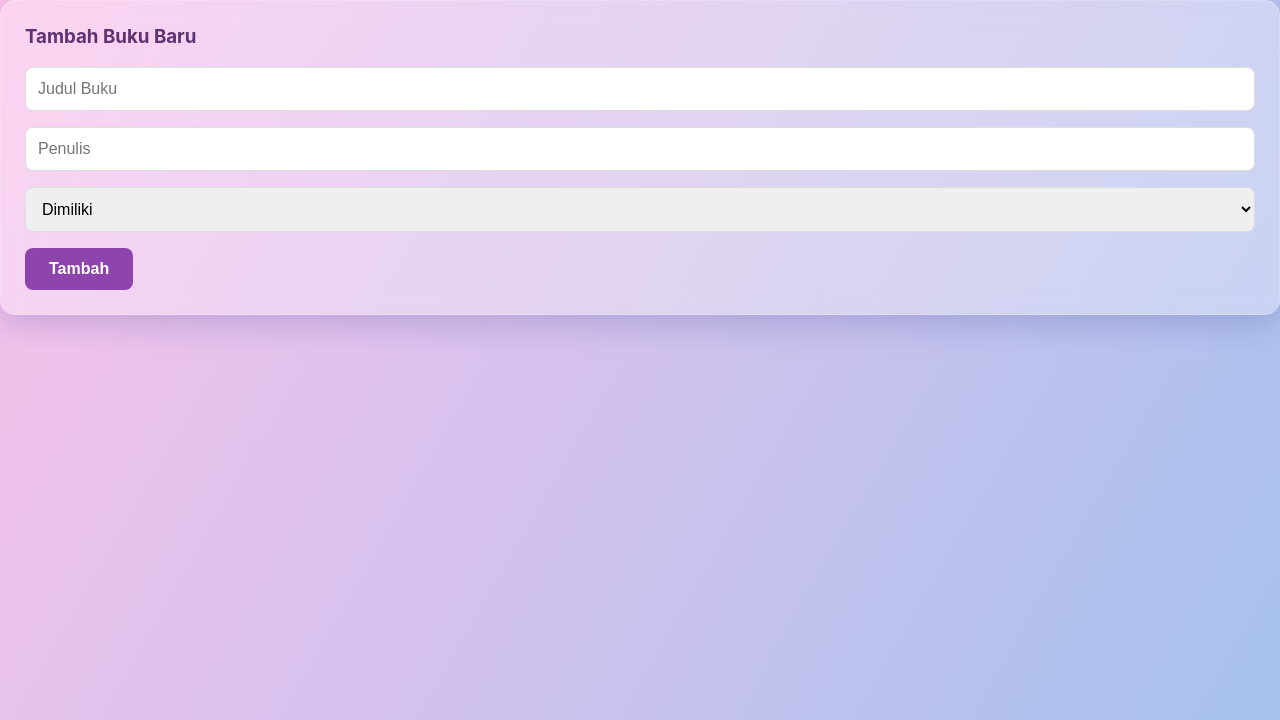
Test: BookForm Component › shows error message if title is empty
The image size is (1280, 720).
Note: Gunakan userEvent untuk interaksi yang lebih realistis [cite: 1066]
Type "Test Author" into the field with placeholder "Penulis" at (640, 149), box [25,127,1255,171]
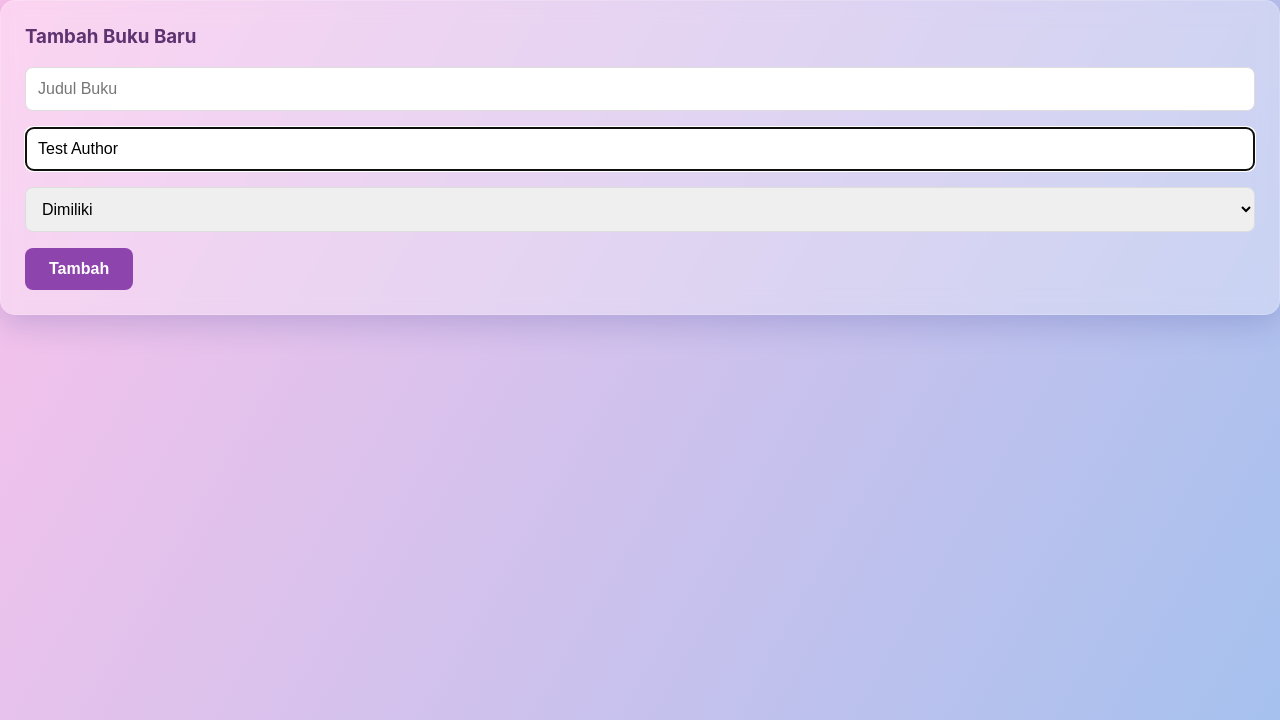
Note: Klik tombol tambah [cite: 1075]
Click the button "Tambah" at (79, 269), box [25,248,133,290]
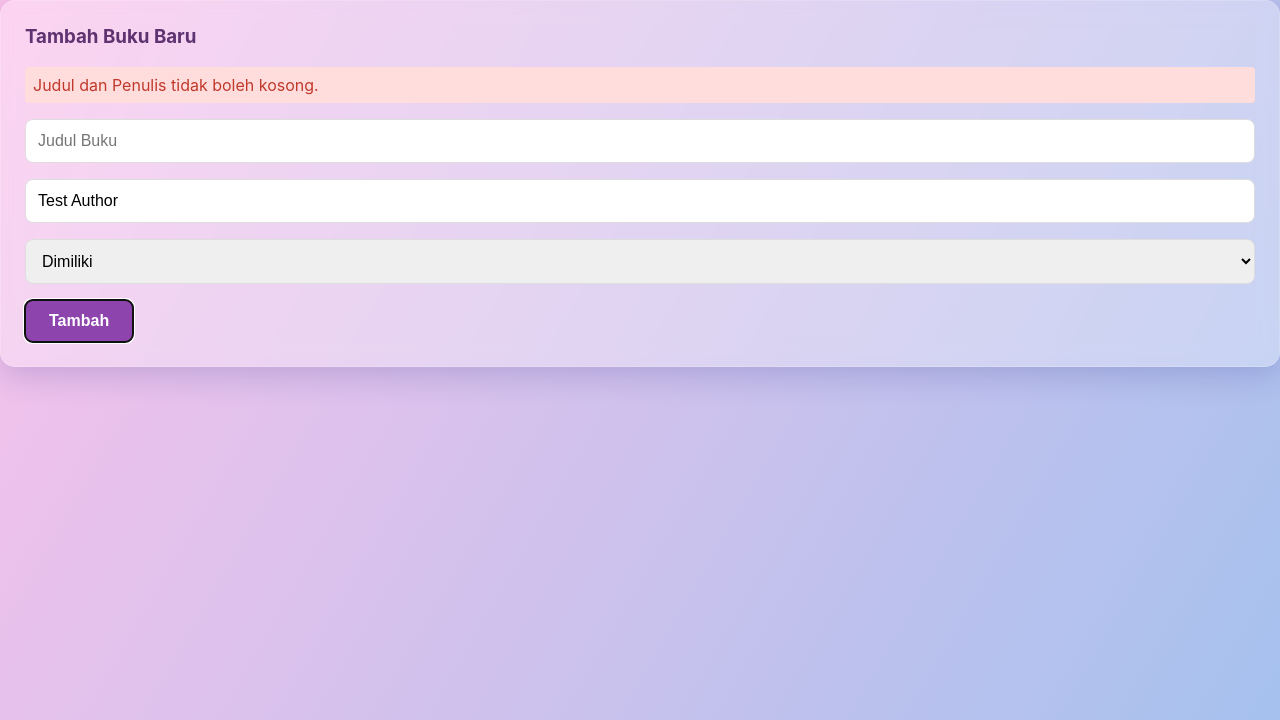
Check: the text "Judul dan Penulis tidak boleh kosong." is shown, box [25,67,1255,103]
